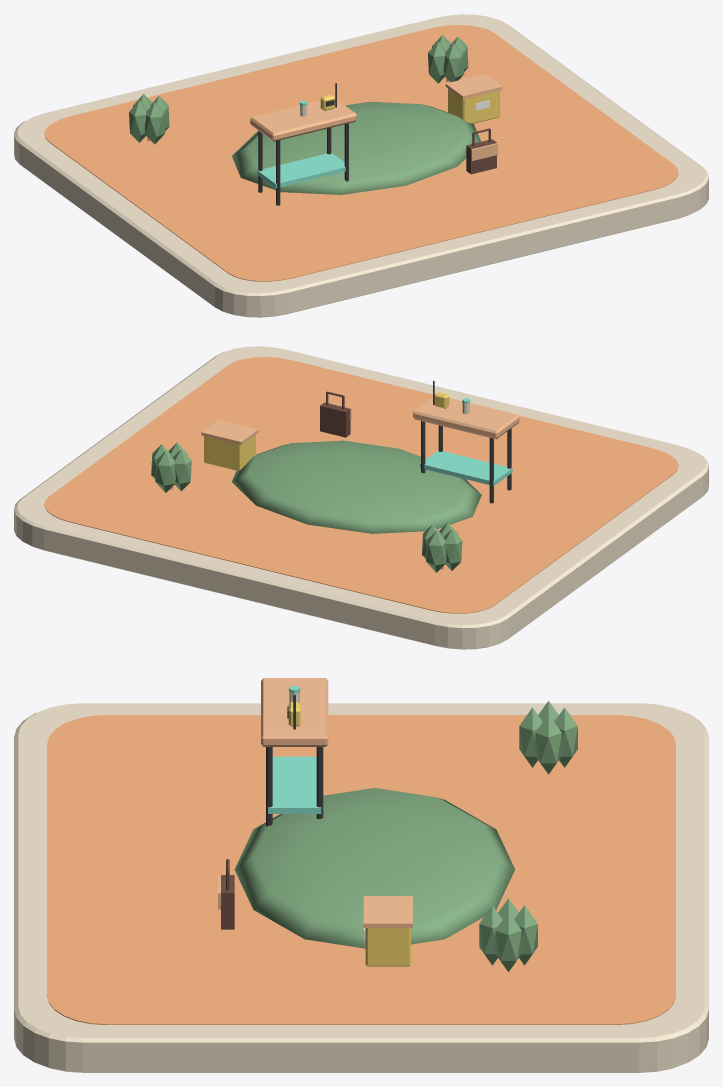
The model's file is room.fbx.
3 views of the same model, one above another, from view 1: azimuth 30°, elevation 25°; view 2: azimuth 150°, elevation 25°; view 3: azimuth 270°, elevation 25° (orthographic). The views are drawn at different scales.
Parts seen in each view (by area): view 1: COM-02 Floor Surface, COM-01 Rounded Base Direct, Low terrain, Worktop, Lower shelf, Box, Bag, Lid, Leaf.003, Leaf.007, Leaf.002, Leaf.006; view 2: COM-02 Floor Surface, COM-01 Rounded Base Direct, Low terrain, Worktop, Lower shelf, Box, Bag, Lid, Leaf.001, Leaf.005, Leaf.006, Leaf.002; view 3: COM-02 Floor Surface, COM-01 Rounded Base Direct, Low terrain, Worktop, Lower shelf, Box, Lid, Leaf, Leaf.004, Bag, Leaf.007, Leaf.003 (+2 smaller).
Part boxes in pixels (left/top/right/bottom): COM-02 Floor Surface: left=44, top=25, right=678, bottom=281; COM-01 Rounded Base Direct: left=14, top=14, right=708, bottom=317; Low terrain: left=232, top=101, right=481, bottom=194; Worktop: left=250, top=100, right=356, bottom=141; Lower shelf: left=257, top=153, right=349, bottom=188; Box: left=448, top=88, right=499, bottom=123; Bag: left=466, top=128, right=497, bottom=174; Lid: left=445, top=74, right=502, bottom=99; Leaf.003: left=145, top=102, right=165, bottom=144; Leaf.007: left=444, top=43, right=464, bottom=82; Leaf.002: left=129, top=100, right=148, bottom=142; Leaf.006: left=428, top=41, right=446, bottom=83; COM-02 Floor Surface: left=44, top=357, right=678, bottom=613; COM-01 Rounded Base Direct: left=14, top=346, right=708, bottom=649; Low terrain: left=232, top=440, right=481, bottom=533; Worktop: left=413, top=397, right=519, bottom=439; Lower shelf: left=420, top=450, right=512, bottom=485; Box: left=204, top=434, right=255, bottom=470; Bag: left=320, top=391, right=351, bottom=437; Lid: left=201, top=419, right=258, bottom=444; Leaf.001: left=426, top=530, right=446, bottom=572; Leaf.005: left=155, top=451, right=175, bottom=492; Leaf.006: left=172, top=449, right=191, bottom=491; Leaf.002: left=443, top=529, right=462, bottom=570; COM-02 Floor Surface: left=47, top=715, right=675, bottom=1024; COM-01 Rounded Base Direct: left=14, top=703, right=708, bottom=1072; Low terrain: left=234, top=788, right=514, bottom=948; Worktop: left=261, top=678, right=328, bottom=746; Lower shelf: left=268, top=756, right=321, bottom=813; Box: left=365, top=928, right=410, bottom=966; Lid: left=363, top=896, right=412, bottom=927; Leaf: left=535, top=714, right=561, bottom=774; Leaf.004: left=495, top=912, right=521, bottom=971; Bag: left=218, top=859, right=234, bottom=929; Leaf.007: left=479, top=905, right=502, bottom=965; Leaf.003: left=519, top=707, right=542, bottom=767.
Bounding box in the file's own units: 600 × 146 × 520.
